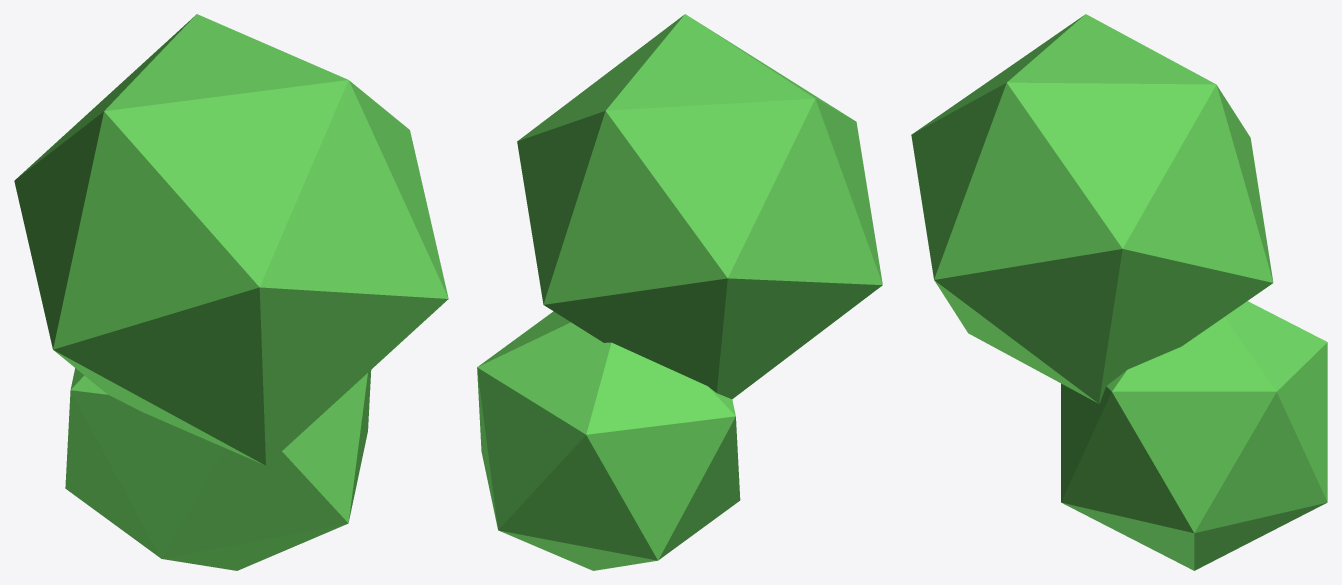
The model's file is Cespuglio grande.fbx.
The picture shows the model from 3 angles, left to right: view 1: azimuth 30°, elevation 25°; view 2: azimuth 150°, elevation 25°; view 3: azimuth 270°, elevation 25°; orthographic projection. The views are drawn at different scales.
Visible parts, largest first — view 1: Icosphere.006; view 2: Icosphere.006; view 3: Icosphere.006.
Part boxes in pixels (x1=…): Icosphere.006: x1=14, y1=14, x2=448, y2=570; Icosphere.006: x1=477, y1=14, x2=882, y2=570; Icosphere.006: x1=911, y1=14, x2=1327, y2=570.
Size of the model in its own units: 51.98 by 72.24 by 55.73.
